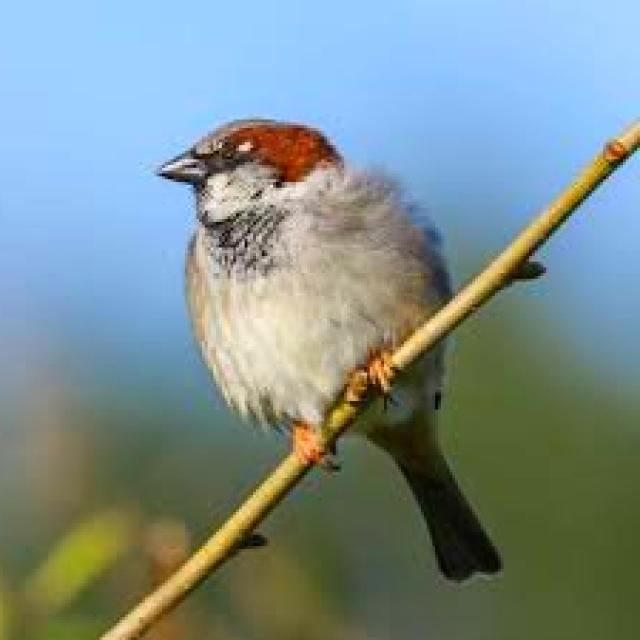sparrow: (162, 119, 501, 577)
